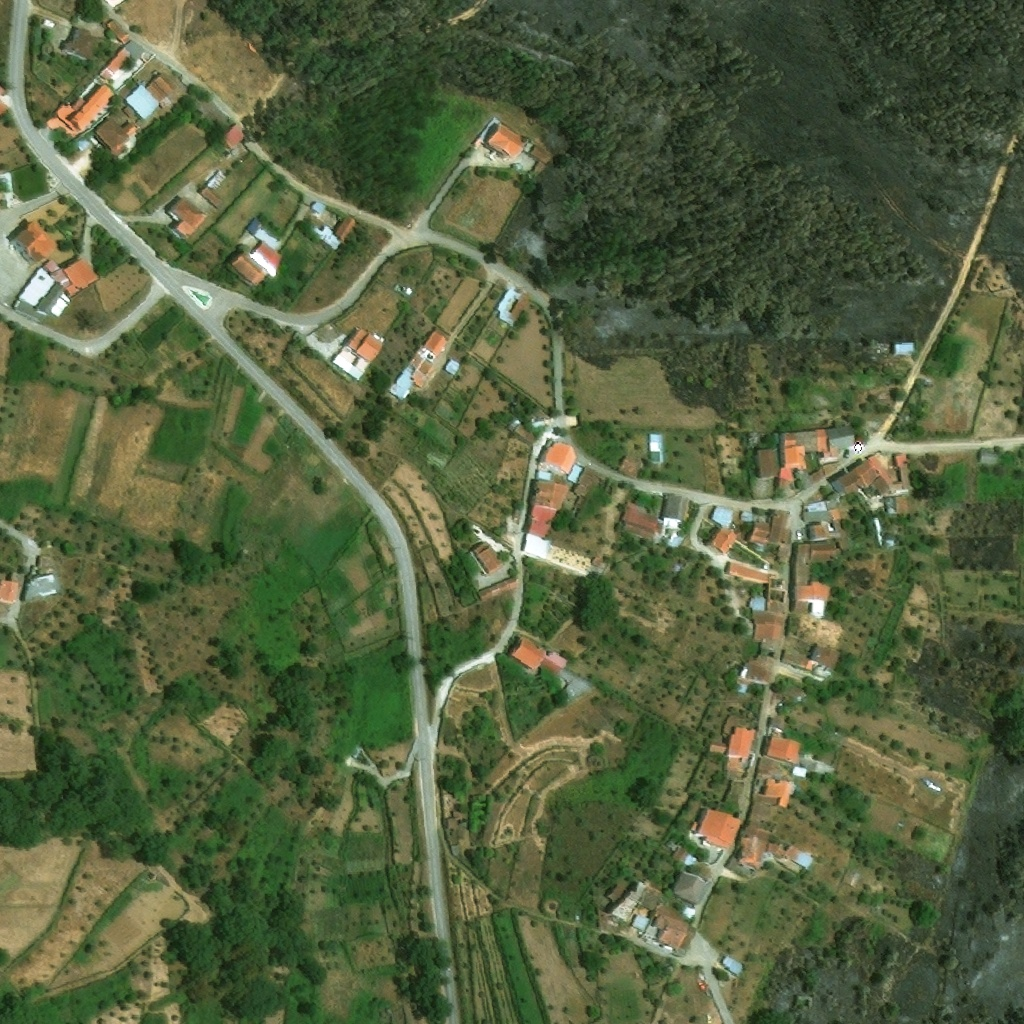0 no-damage: (605, 881, 690, 952), (778, 425, 838, 485), (792, 542, 835, 616), (52, 84, 113, 131), (830, 454, 892, 497), (748, 594, 787, 657), (508, 635, 568, 675), (388, 353, 435, 401), (14, 266, 55, 321), (691, 808, 742, 851), (781, 644, 842, 678), (11, 221, 60, 263), (528, 473, 578, 511), (747, 508, 792, 548), (93, 116, 137, 156), (100, 41, 145, 80), (801, 499, 844, 538), (341, 326, 384, 363), (169, 197, 207, 238), (230, 248, 270, 286), (723, 724, 756, 770), (672, 866, 710, 905), (485, 124, 525, 161), (774, 444, 806, 490), (40, 258, 78, 296), (620, 502, 659, 539), (536, 440, 577, 475), (124, 82, 161, 120), (765, 841, 812, 868), (63, 255, 98, 290), (495, 289, 528, 326), (331, 347, 369, 379), (34, 281, 68, 316), (572, 466, 610, 497), (245, 217, 279, 251), (470, 541, 505, 574), (737, 830, 770, 865), (60, 27, 96, 59), (524, 504, 556, 538), (477, 575, 518, 601), (199, 171, 227, 208), (557, 667, 588, 699), (764, 734, 799, 762), (22, 573, 58, 600), (659, 492, 689, 524), (725, 563, 769, 584), (763, 779, 795, 807), (827, 424, 854, 455), (747, 657, 776, 685), (893, 453, 912, 493), (422, 330, 448, 359), (709, 528, 738, 554), (756, 447, 779, 479), (523, 533, 551, 559), (791, 758, 829, 777), (313, 225, 342, 248), (881, 495, 916, 514), (152, 70, 177, 96), (0, 573, 20, 604), (105, 19, 129, 44), (529, 146, 549, 175), (719, 953, 744, 976), (709, 505, 734, 528), (333, 215, 355, 241), (145, 79, 167, 104), (223, 124, 246, 147), (672, 846, 696, 867), (883, 340, 914, 355), (512, 423, 536, 442), (756, 758, 776, 776), (648, 433, 660, 463), (977, 448, 998, 465), (771, 681, 790, 699), (443, 358, 460, 376), (568, 465, 583, 484), (310, 202, 326, 217), (535, 468, 552, 481), (697, 866, 712, 880), (123, 104, 136, 119), (709, 742, 724, 754), (740, 509, 753, 521), (532, 418, 546, 428), (42, 19, 54, 28), (393, 286, 403, 295), (404, 286, 413, 295), (511, 164, 521, 172)
4 un-classified: (0, 79, 8, 114), (73, 136, 90, 152), (35, 555, 54, 569), (350, 745, 362, 759), (0, 602, 7, 619), (591, 557, 602, 567)
